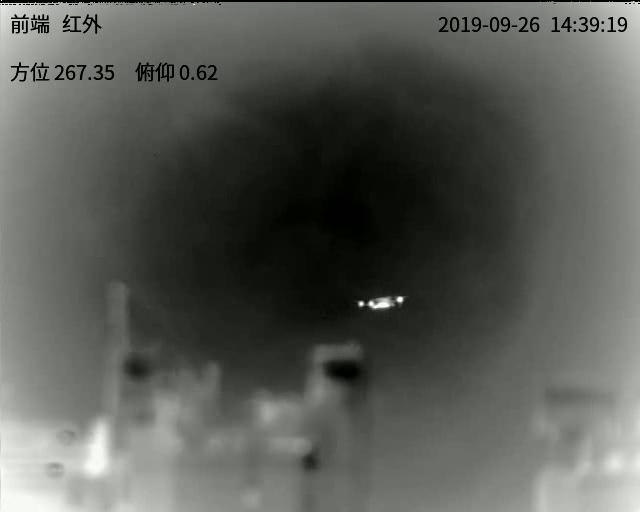DRONE: (357, 293, 407, 311)
